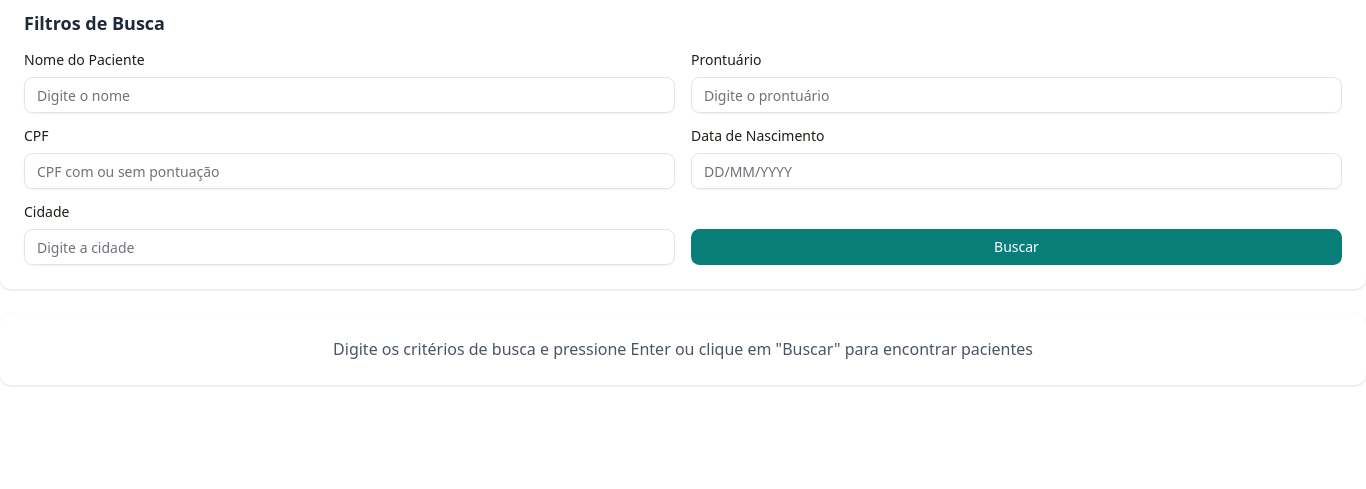
Test: mostra CPF 111.222.333-44 em vez de e-mail no resumo de pacientes
In the field labelled "Nome do Paciente": (350, 95) [24,77,675,113], type "Fictício"
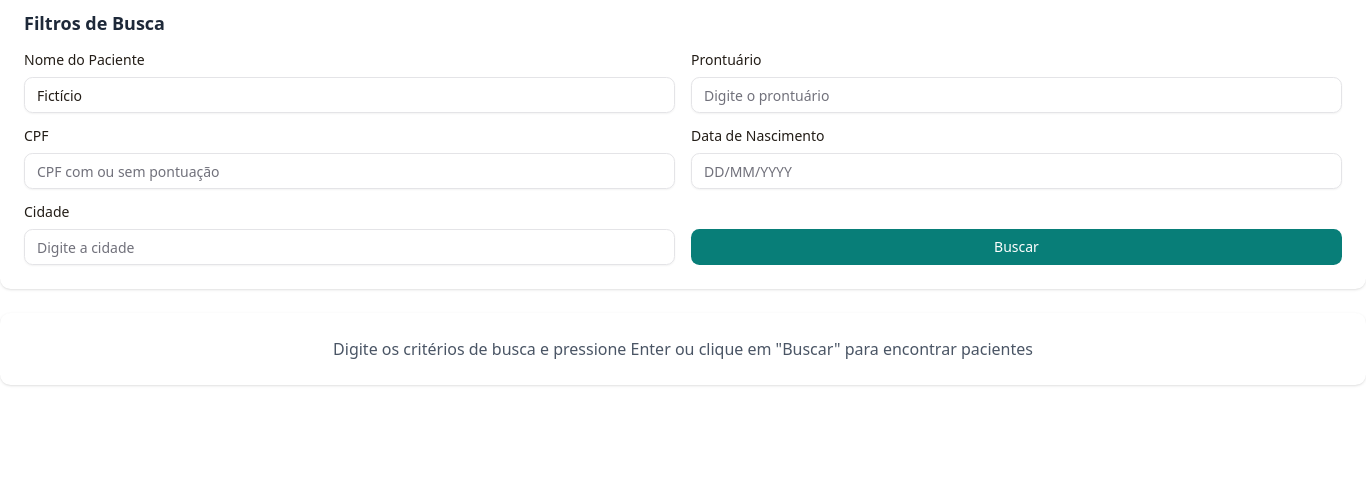
Click the button "Buscar": (1016, 247) [691,229,1342,265]
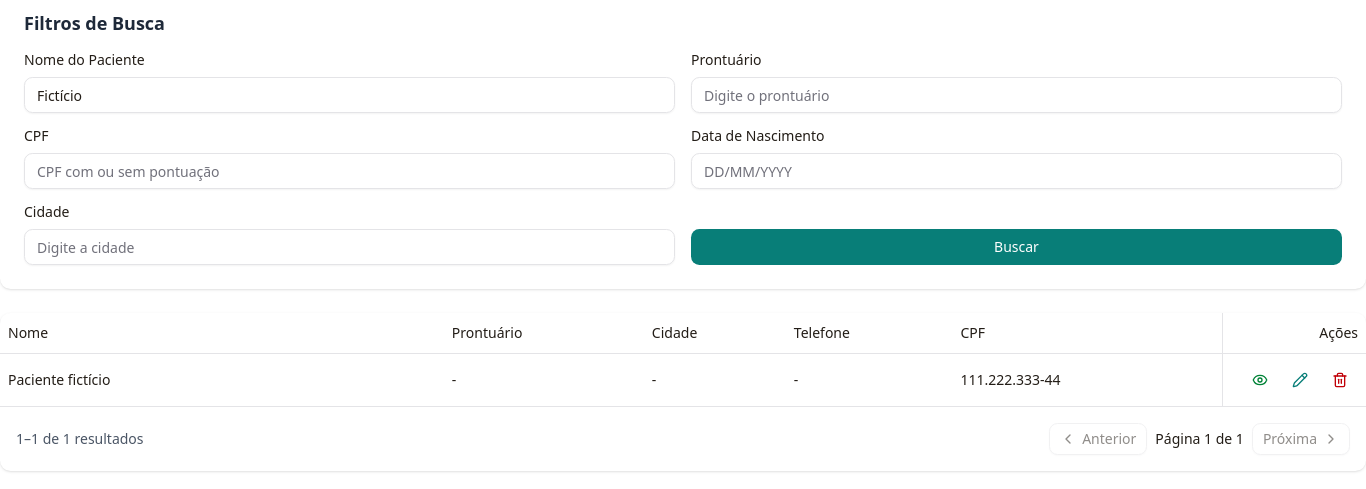
expect the text "Paciente fictício" is shown: met, box [0,353,444,406]
expect the column heading "CPF" is shown: met, box [952,313,1222,353]
expect the cell "111.222.333-44" is shown: met, box [952,353,1222,406]
